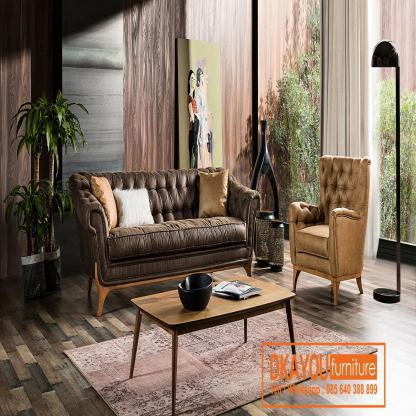bantal: (117, 189, 153, 225), (94, 177, 117, 228), (198, 170, 224, 215)
lampu: (293, 153, 367, 309)
sova: (69, 166, 264, 283)
tanaman: (123, 274, 304, 393), (4, 94, 71, 251)
